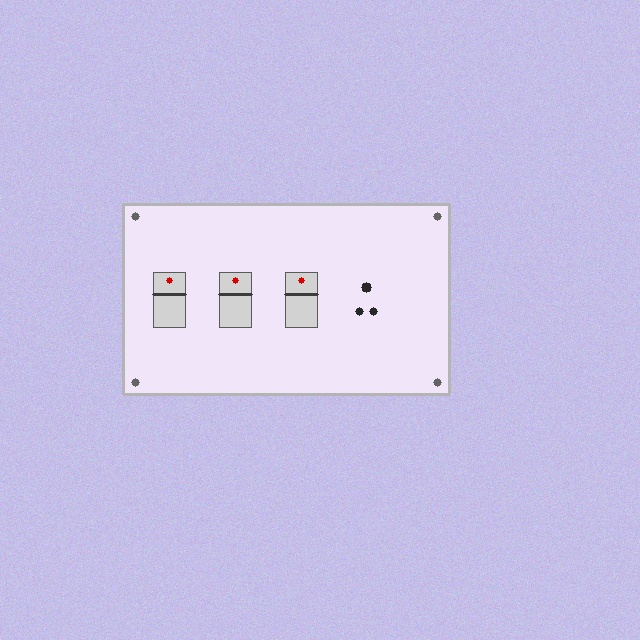switchboard: (123, 204, 449, 394)
